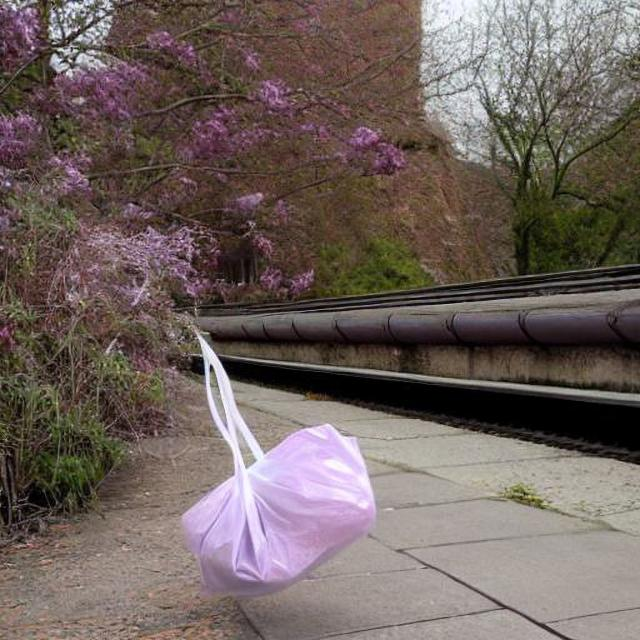floating object: (180, 340, 377, 594)
